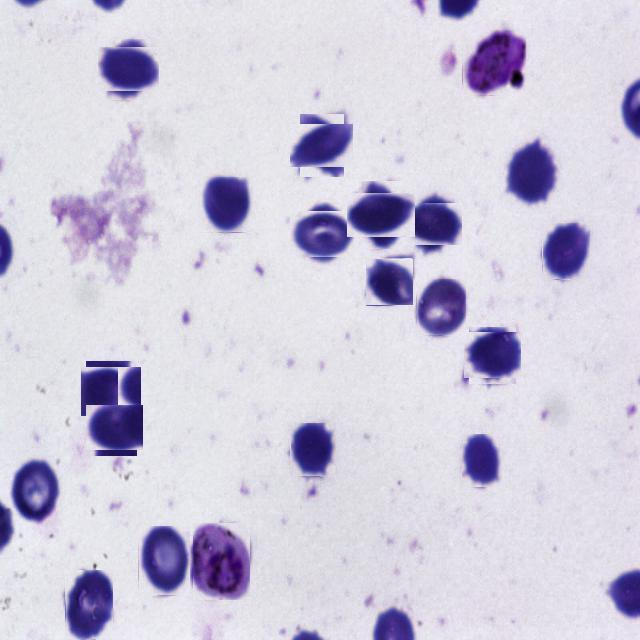difficult: (462, 30, 526, 96)
red blood cell: (138, 526, 190, 596), (65, 570, 113, 640), (294, 206, 350, 262), (354, 187, 409, 243), (82, 364, 138, 419), (12, 460, 60, 524), (508, 142, 558, 203), (200, 177, 254, 233), (295, 119, 349, 172), (416, 279, 466, 336), (102, 43, 155, 96), (466, 329, 518, 382), (542, 223, 590, 280), (88, 401, 140, 453), (407, 199, 458, 250), (290, 423, 336, 477), (366, 258, 412, 306), (462, 434, 502, 487)
schizont: (193, 523, 250, 600)
